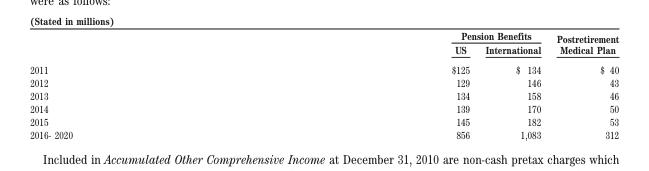table: (29, 28, 618, 140)
table column: (29, 28, 261, 140), (261, 28, 477, 140), (477, 28, 548, 140), (548, 28, 618, 140)
table column header: (29, 28, 618, 59)
table row: (29, 42, 618, 59), (29, 59, 618, 76), (29, 28, 618, 42), (29, 76, 618, 89), (29, 89, 618, 102), (29, 102, 618, 115), (29, 127, 618, 140), (29, 115, 618, 127)
table spanning cell: (261, 28, 548, 42), (548, 28, 618, 59)
